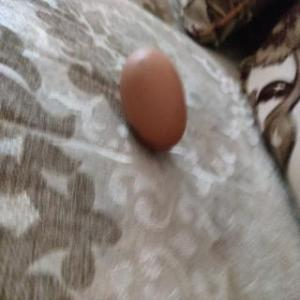egg: (118, 49, 188, 155)
